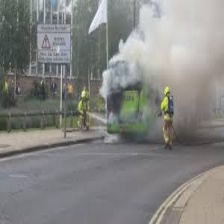smoke: (98, 1, 222, 95)
